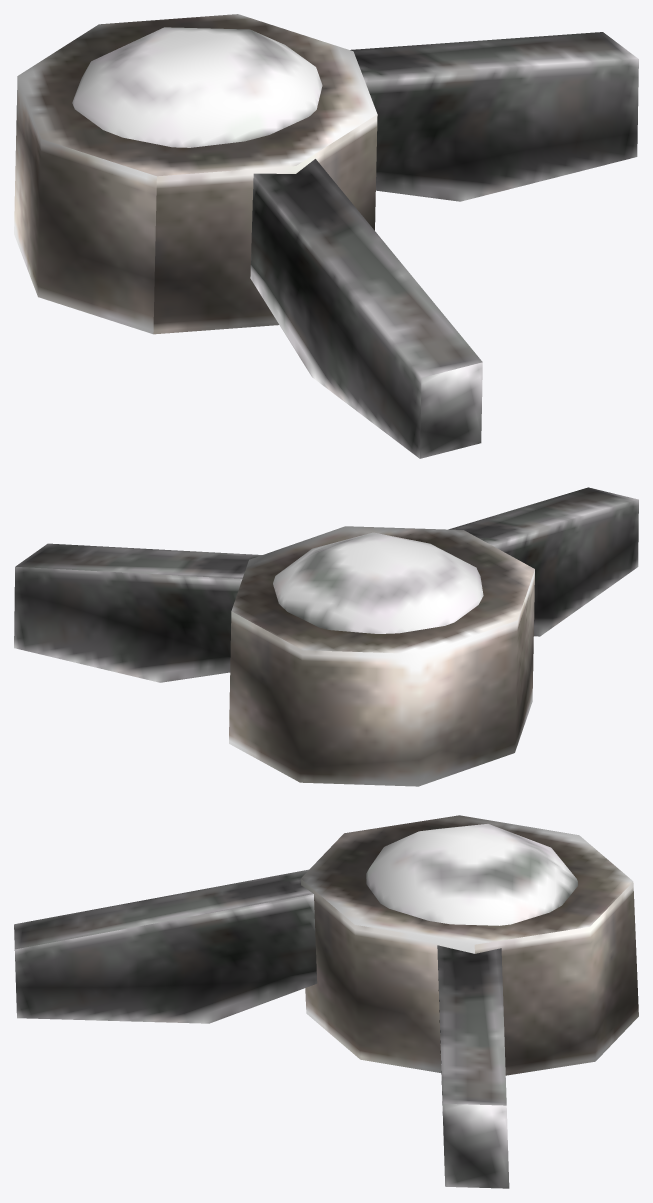
The model's file is Robot01.RightFoot2.fbx.
3 renders of one model, top to bottom at view 1: azimuth 30°, elevation 25°; view 2: azimuth 150°, elevation 25°; view 3: azimuth 270°, elevation 25°, orthographic. The views are drawn at different scales.
Visible parts, largest first — view 1: mesh_1108.001; view 2: mesh_1108.001; view 3: mesh_1108.001.
Boxes of the visible parts, x1,y1,x2,y2 form: mesh_1108.001: [14, 14, 638, 458]; mesh_1108.001: [14, 487, 638, 786]; mesh_1108.001: [14, 815, 638, 1188].
Bounding box in the file's own units: 62.23 × 21.58 × 67.88.
